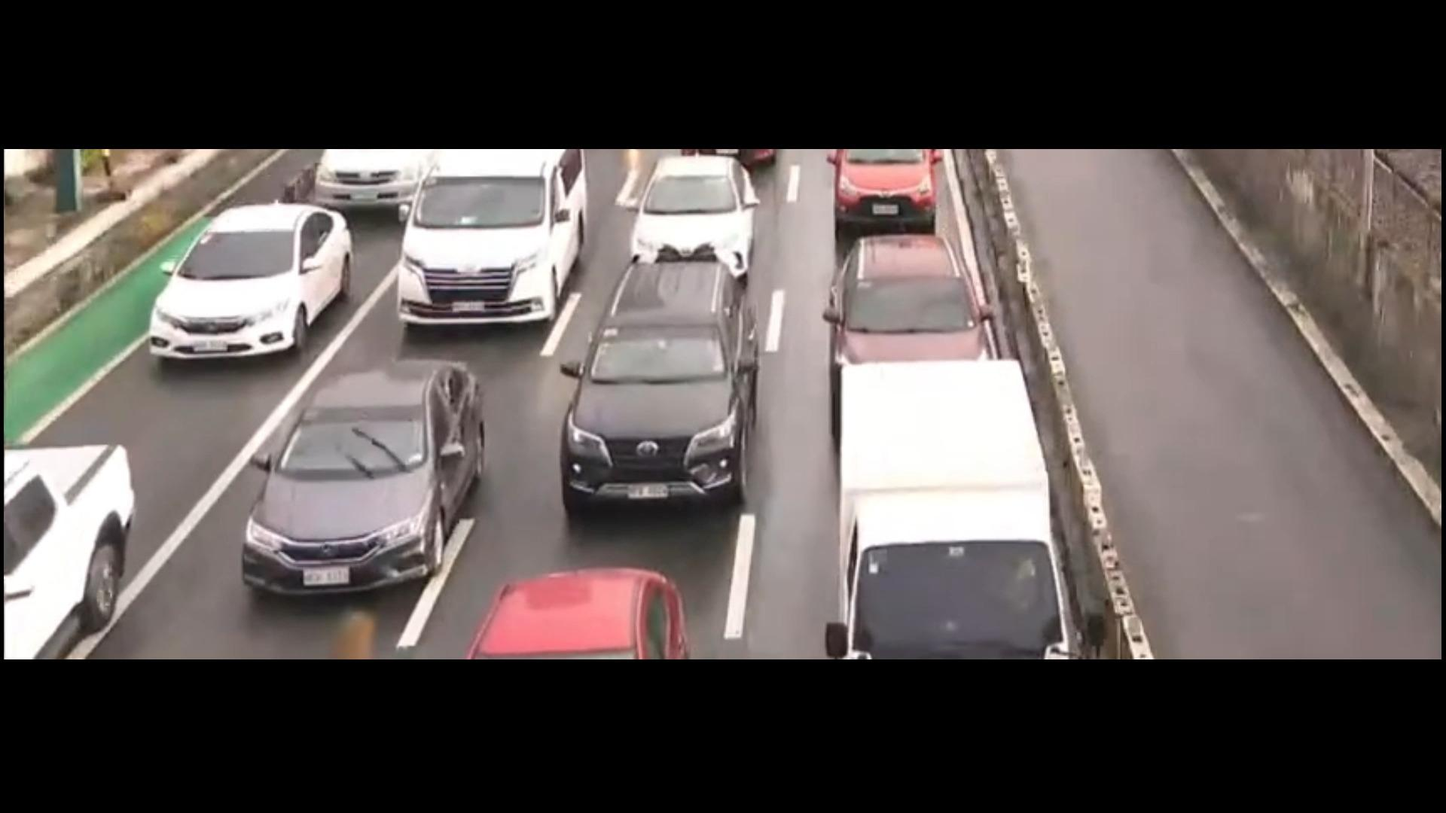Pickup: (0, 416, 140, 660)
SUV: (545, 241, 810, 532), (829, 217, 1032, 401)
Sedan: (209, 350, 501, 601), (120, 198, 373, 393), (465, 554, 714, 657), (619, 157, 772, 277)
Truck: (808, 354, 1105, 657)
Van: (402, 147, 601, 340)
